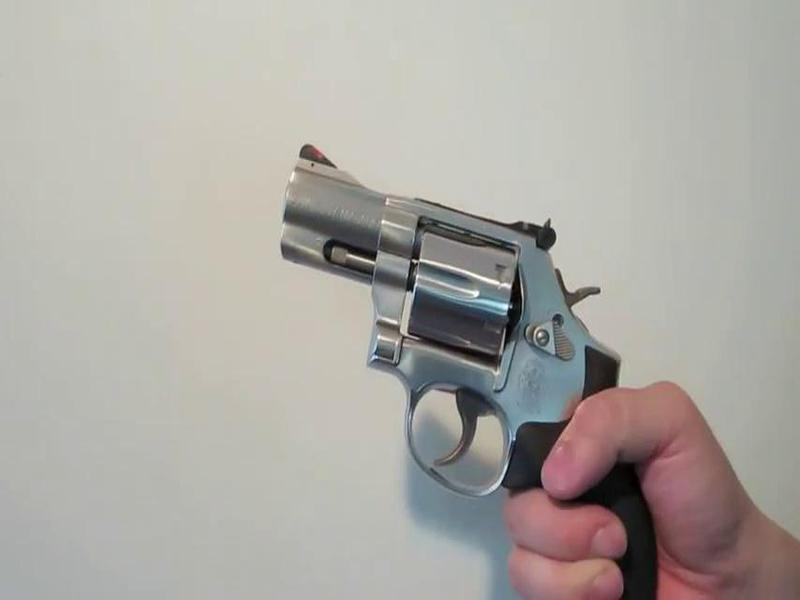Revolver: (264, 105, 650, 525)
